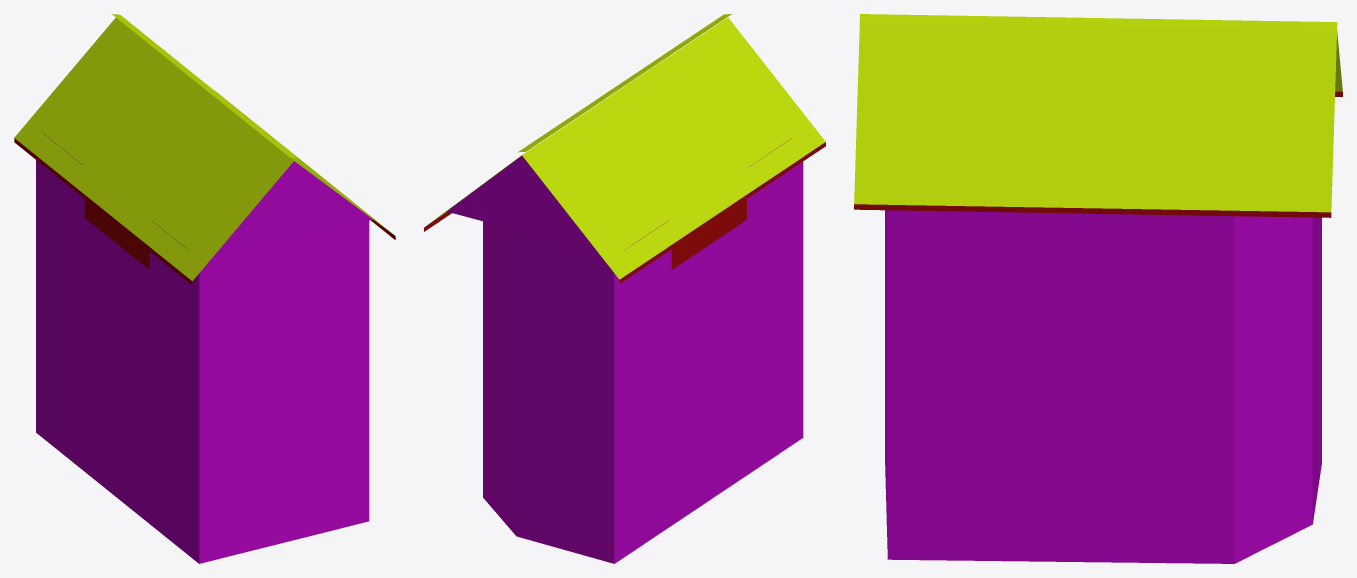
Rendered from bgj_314.glb.
The picture shows the model from 3 angles, left to right: view 1: azimuth 30°, elevation 25°; view 2: azimuth 150°, elevation 25°; view 3: azimuth 270°, elevation 25°; orthographic projection. The views are drawn at different scales.
Parts seen in each view (by area): view 1: bgj_314; view 2: bgj_314; view 3: bgj_314.
Boxes of the visible parts, box(x1,y1,x2,y2) form: bgj_314: box(14, 14, 395, 563); bgj_314: box(424, 14, 825, 563); bgj_314: box(854, 14, 1342, 563).
Size of the model in its own units: 6.07 by 10.78 by 9.73.
